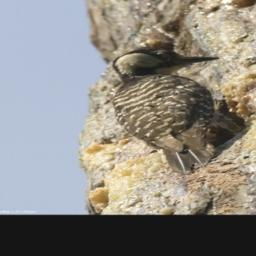Woodpecker: (111, 46, 248, 177)
